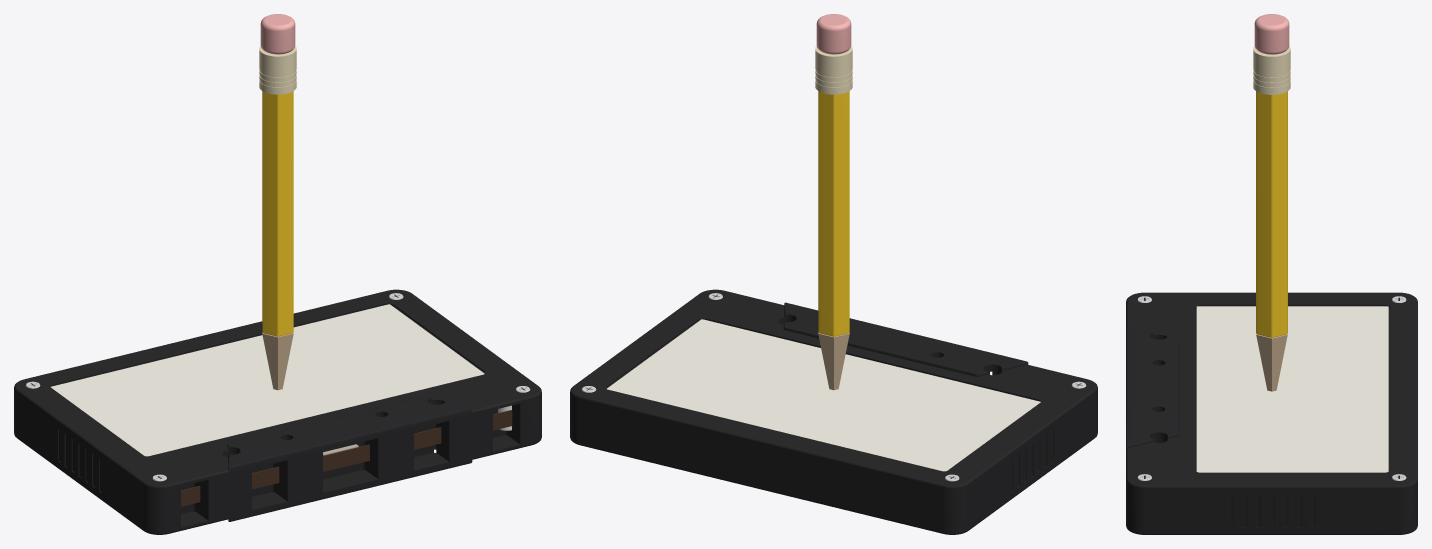
The model's file is cassette.glb.
3 renders of one model, left to right at view 1: azimuth 30°, elevation 25°; view 2: azimuth 150°, elevation 25°; view 3: azimuth 270°, elevation 25°, orthographic.
Parts seen in each view (by area): view 1: shell, label, body, tapeRun, ferrule, eraser, cone; view 2: shell, label, body, ferrule, eraser, cone; view 3: shell, label, body, ferrule, eraser, cone.
Boxes of the visible parts, box(x1,y1,x2,y2) form: shell: box(14, 289, 541, 534); label: box(51, 304, 484, 456); body: box(262, 91, 293, 336); tapeRun: box(181, 410, 512, 506); ferrule: box(259, 46, 296, 94); eraser: box(260, 14, 295, 54); cone: box(262, 332, 293, 390); shell: box(570, 289, 1097, 534); label: box(607, 319, 1040, 471); body: box(818, 91, 849, 336); ferrule: box(815, 46, 852, 94); eraser: box(816, 14, 851, 54); cone: box(818, 332, 849, 390); shell: box(1126, 292, 1417, 534); label: box(1196, 306, 1388, 472); body: box(1256, 91, 1287, 337); ferrule: box(1253, 46, 1290, 94); eraser: box(1254, 14, 1289, 54); cone: box(1256, 333, 1287, 391).
Size of the model in its own units: 10.04 by 10.17 by 6.38.
